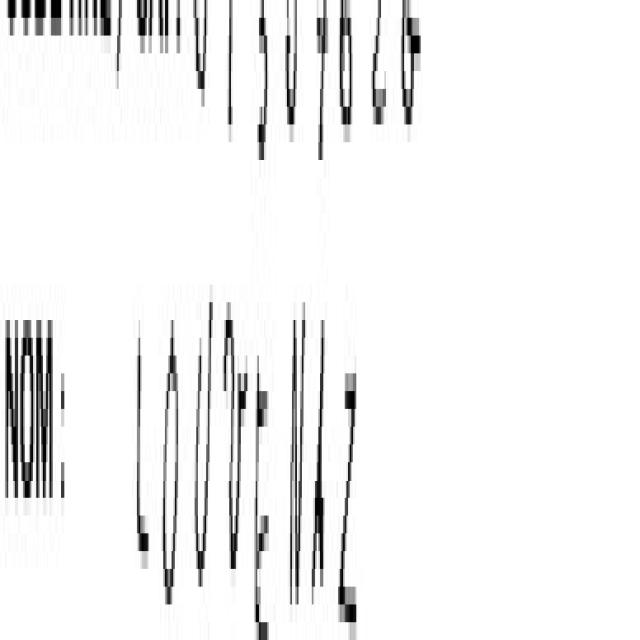A: (312, 220, 330, 640)
E: (255, 234, 276, 640)
L: (128, 289, 156, 632)
N: (280, 234, 308, 621)
O: (159, 261, 186, 640)
U: (189, 247, 217, 640)
V: (218, 206, 250, 604)
Z: (333, 234, 369, 640)
